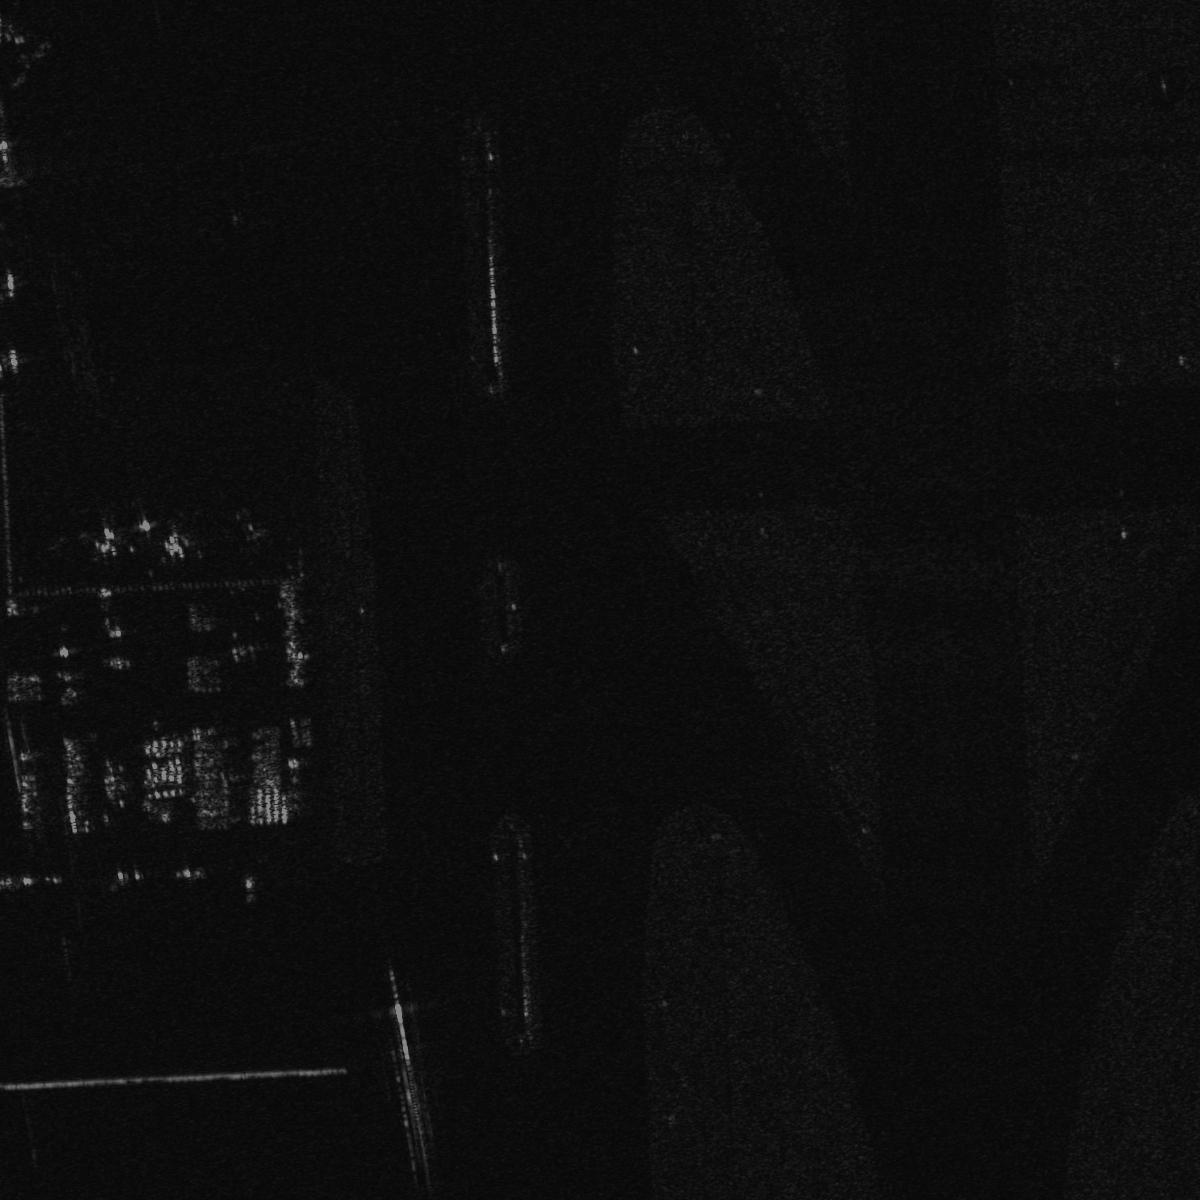ARJ21: (77, 519, 127, 565)
other: (146, 514, 199, 564)
